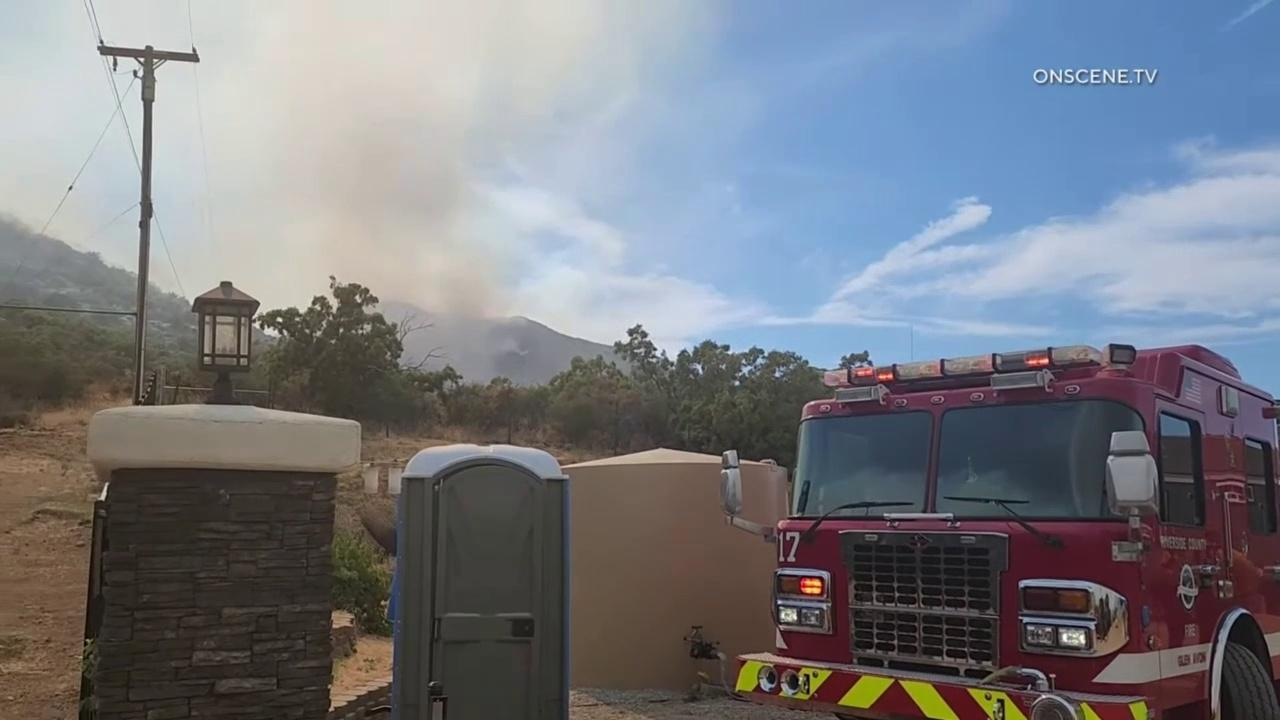smoke: (1, 0, 704, 386)
